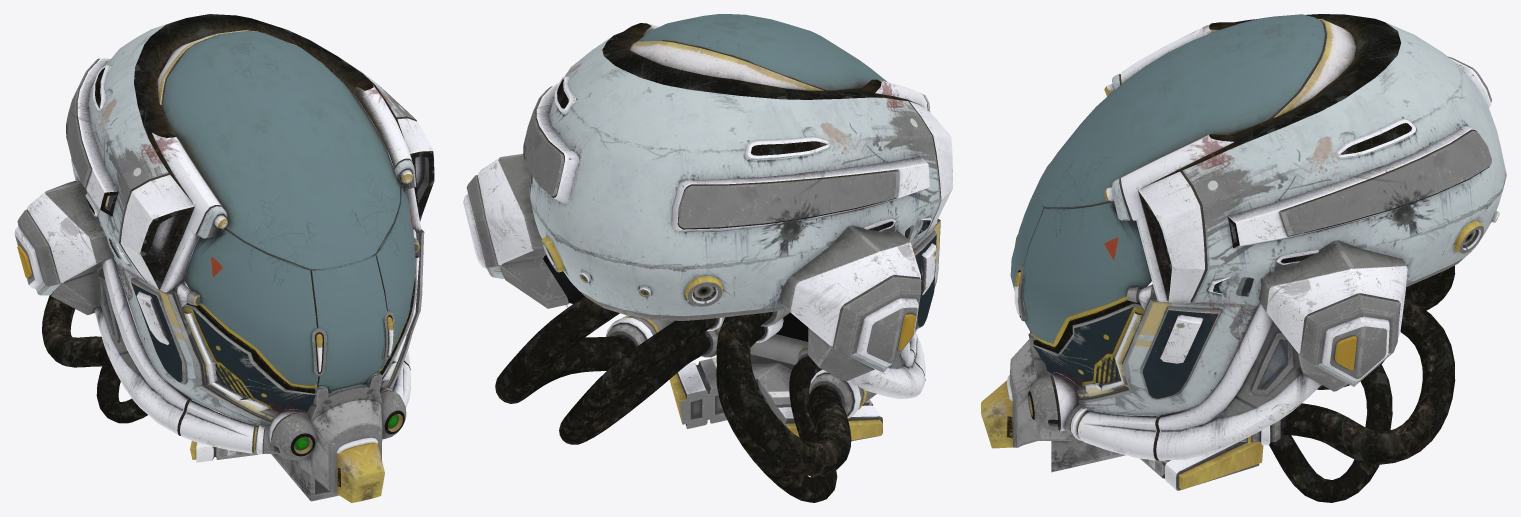
Rendered from helmet.glb.
3 views of the same model, side by side, from view 1: azimuth 30°, elevation 25°; view 2: azimuth 150°, elevation 25°; view 3: azimuth 270°, elevation 25° (orthographic). The views are drawn at different scales.
Parts seen in each view (by area): view 1: node_damagedHelmet_-6514; view 2: node_damagedHelmet_-6514; view 3: node_damagedHelmet_-6514.
Part boxes in pixels (box(x1,y1,x2,y2)): node_damagedHelmet_-6514: box(14, 14, 434, 502); node_damagedHelmet_-6514: box(463, 14, 952, 502); node_damagedHelmet_-6514: box(981, 14, 1506, 502).
Size of the model in its own units: 1.89 by 1.8 by 2.
Materials: 1 (1 with a texture image).
